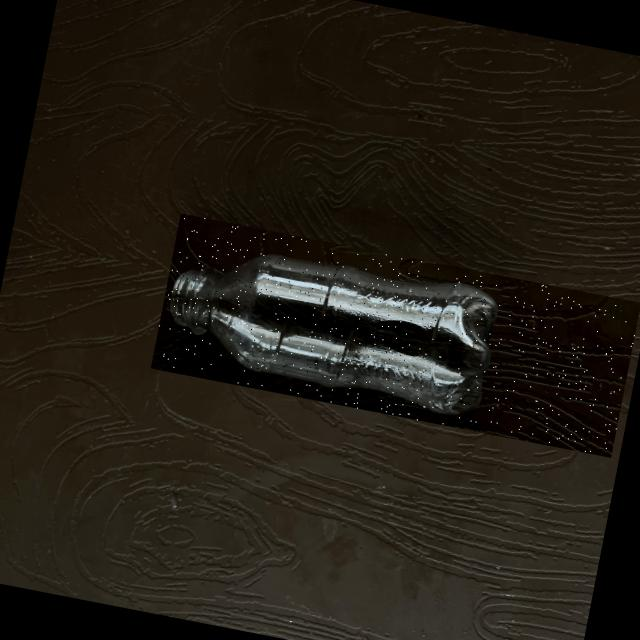PET_ClearBottle: (149, 213, 640, 458)
